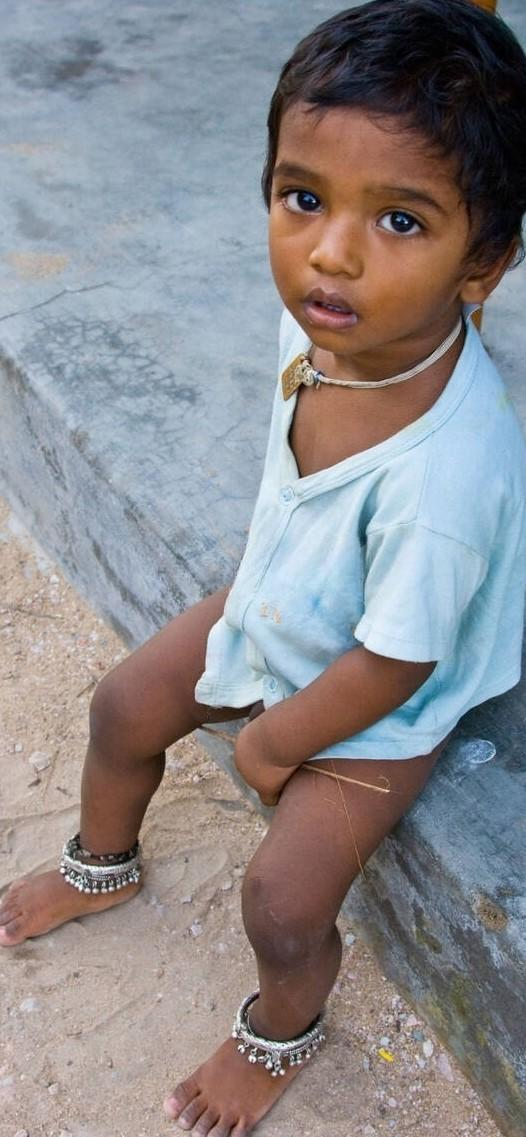MalNutrisi: (233, 40, 526, 430)
